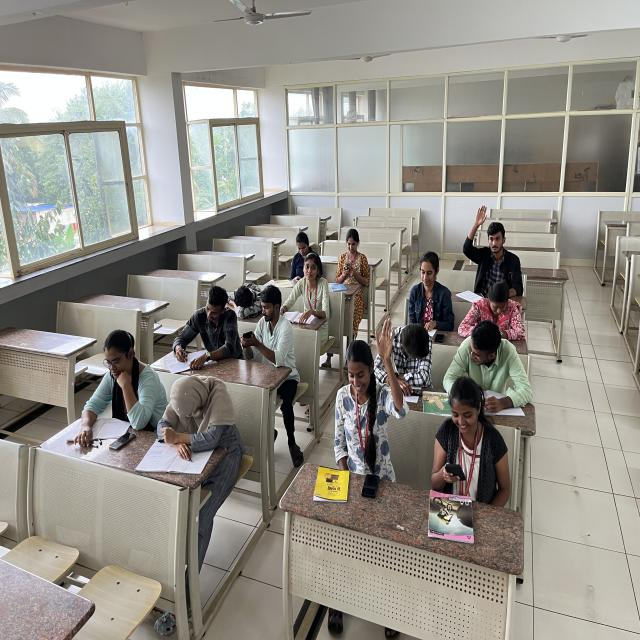Hand Rising: (332, 322, 404, 447), (462, 202, 523, 286)
Reading: (73, 291, 163, 455), (453, 327, 528, 402), (398, 250, 458, 338), (463, 276, 531, 340)
Sleeping: (158, 372, 230, 487), (373, 317, 436, 377), (230, 277, 275, 317)
Using Phone: (427, 376, 508, 489), (240, 288, 301, 377), (332, 225, 371, 298), (285, 226, 326, 281)
Writing: (168, 286, 240, 369)
